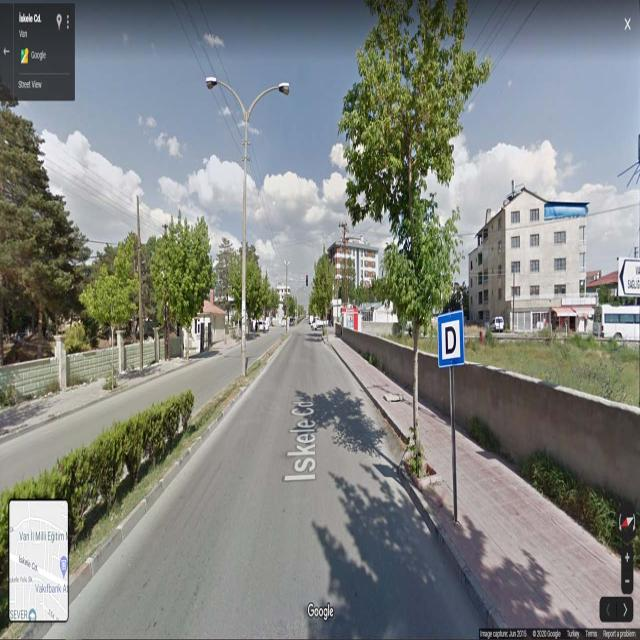durak: (440, 316, 462, 367)
